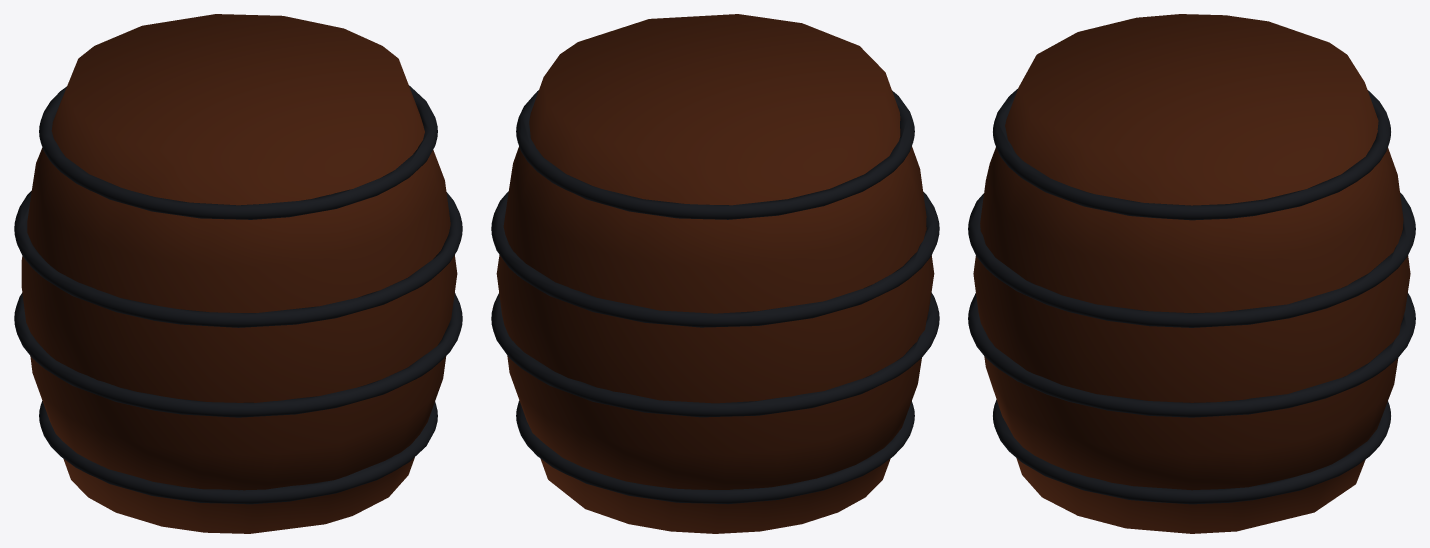
The model's file is tavern-barrel.glb.
3 views of the same model, side by side, from view 1: azimuth 30°, elevation 25°; view 2: azimuth 150°, elevation 25°; view 3: azimuth 270°, elevation 25° (orthographic).
Visible parts, largest first — view 1: Staves, Hoop 3, Hoop 2, Hoop 4, Hoop 1; view 2: Staves, Hoop 3, Hoop 2, Hoop 4, Hoop 1; view 3: Staves, Hoop 3, Hoop 2, Hoop 4, Hoop 1.
Part boxes in pixels (<box>): Staves: <box>21,14,457,533</box>; Hoop 3: <box>14,191,462,327</box>; Hoop 2: <box>14,292,462,417</box>; Hoop 4: <box>39,85,437,219</box>; Hoop 1: <box>39,401,437,504</box>; Staves: <box>496,14,934,533</box>; Hoop 3: <box>491,191,939,327</box>; Hoop 2: <box>491,292,939,417</box>; Hoop 4: <box>516,90,914,219</box>; Hoop 1: <box>516,400,914,504</box>; Staves: <box>973,14,1410,533</box>; Hoop 3: <box>968,192,1415,327</box>; Hoop 2: <box>968,293,1415,417</box>; Hoop 4: <box>993,89,1390,220</box>; Hoop 1: <box>993,399,1390,504</box>.
Bounding box in the file's own units: 1.09 × 1 × 1.09.
